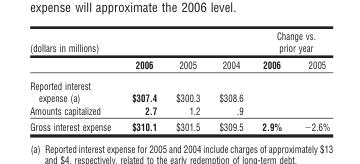table: (29, 29, 329, 132)
table column: (29, 29, 120, 132), (120, 29, 165, 132), (208, 29, 252, 132), (165, 29, 208, 132), (252, 29, 292, 132), (292, 29, 329, 132)
table column header: (29, 29, 329, 74)
table row: (29, 74, 329, 103), (29, 29, 329, 55), (29, 55, 329, 74), (29, 103, 329, 118), (29, 118, 329, 132)
table spanning cell: (29, 29, 120, 74), (120, 29, 165, 74), (252, 29, 329, 55), (208, 29, 252, 74), (165, 29, 208, 74)
